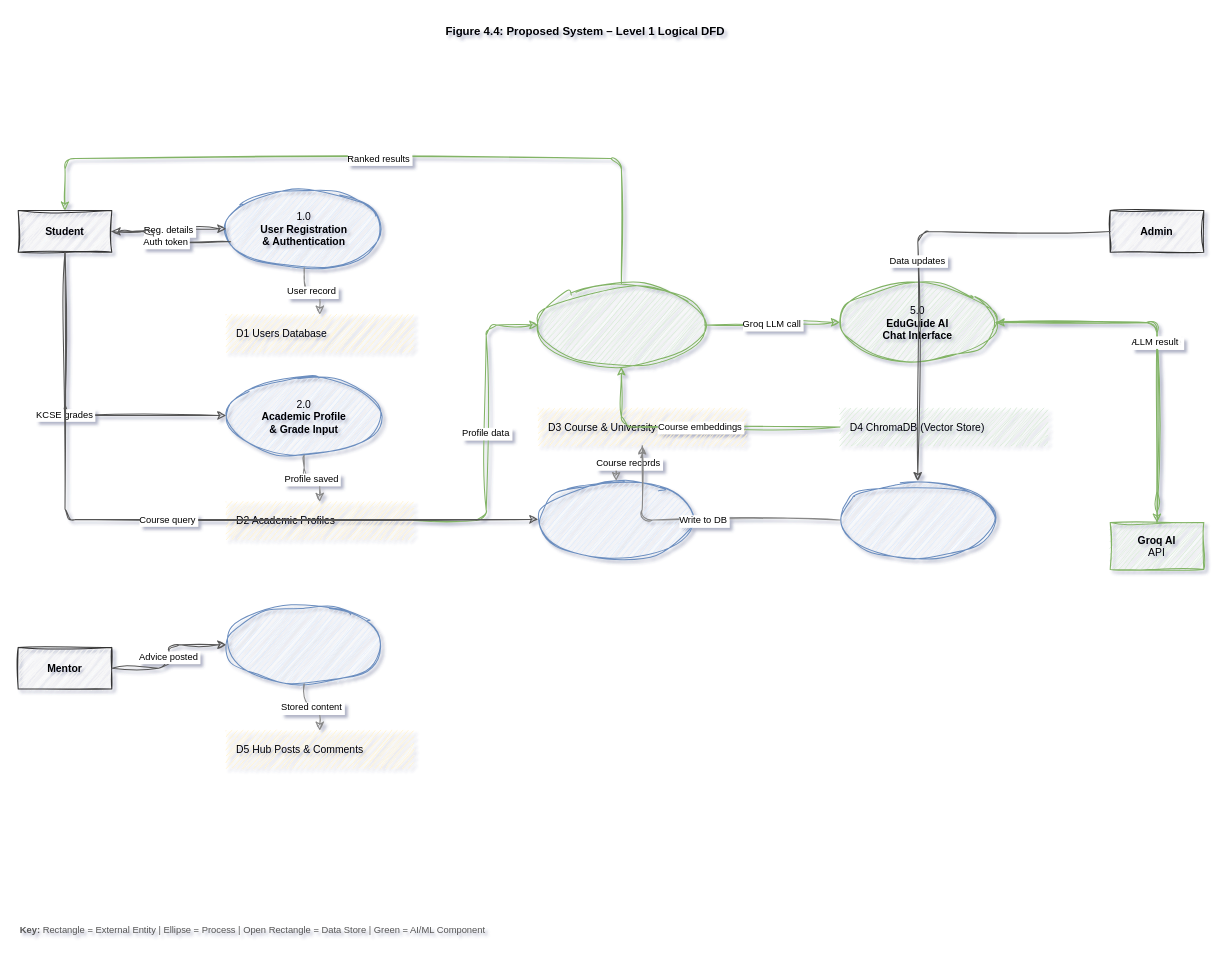
Image size: 1228x967. Some labels were removed from this diagram. The shapes that lost their labels are listed below. From the top down, each one's centre as x and y in pixels, then its label:
At (621,324): "3.0 AI Recommendation Engine".
At (615,519): "4.0 Course Search & Browse".
At (917,519): "7.0 Admin & Data Management".
At (303,644): "6.0 Community Hubs & Mentorship".
